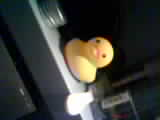duck: (60, 28, 110, 94)
